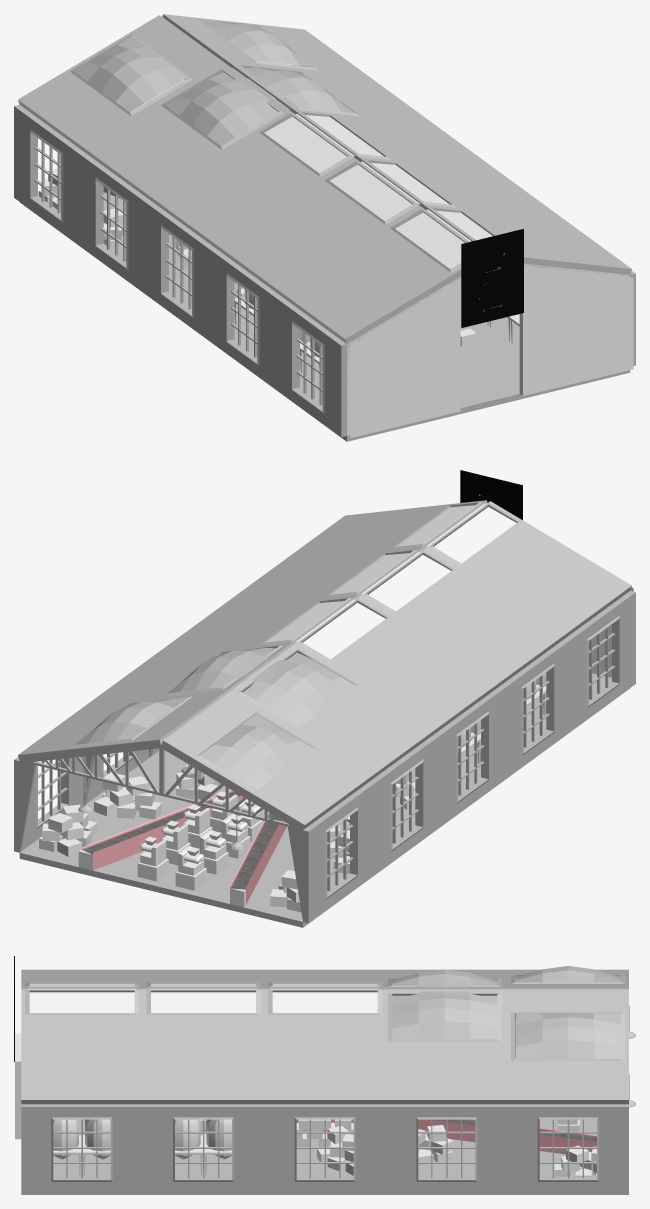
The model's file is ENV FINAL SEQUENCE.fbx.
3 views of the same model, one above another, from view 1: azimuth 30°, elevation 25°; view 2: azimuth 150°, elevation 25°; view 3: azimuth 270°, elevation 25° (orthographic). The views are drawn at different scales.
Visible parts, largest first — view 1: Factory_Module, Factory_Misc, Facotry_Back_Wall, Factory_Garage, SILOS; view 2: Factory_Module, Factory_Misc, DOUGH_MACH4, BOX_GROUP_MESSY7, BOX_GROUP_MESSY6, TR2, Factory_Garage, TB2, BOX_GROUP_MESSY5, SILOS; view 3: Factory_Module, Factory_Misc, SILOS, BOX_GROUP_MESSY4, BOX_GROUP_MESSY5, BOX_GROUP_ORG3, TR2, BOX_GROUP_MESSY7, TR1, Facotry_Back_Wall.
Boxes of the visible parts, bbox=[...] form: Factory_Module: bbox=[14, 14, 635, 441]; Factory_Misc: bbox=[34, 19, 630, 431]; Facotry_Back_Wall: bbox=[347, 263, 633, 438]; Factory_Garage: bbox=[461, 229, 523, 327]; SILOS: bbox=[234, 289, 519, 373]; Factory_Module: bbox=[14, 500, 635, 927]; Factory_Misc: bbox=[19, 504, 615, 919]; DOUGH_MACH4: bbox=[137, 791, 263, 890]; BOX_GROUP_MESSY7: bbox=[39, 804, 301, 912]; BOX_GROUP_MESSY6: bbox=[94, 772, 349, 873]; TR2: bbox=[82, 810, 188, 870]; Factory_Garage: bbox=[460, 470, 522, 520]; TB2: bbox=[230, 832, 273, 904]; BOX_GROUP_MESSY5: bbox=[176, 764, 349, 831]; SILOS: bbox=[458, 672, 546, 769]; Factory_Module: bbox=[21, 969, 628, 1194]; Factory_Misc: bbox=[28, 966, 635, 1178]; SILOS: bbox=[53, 1119, 231, 1175]; BOX_GROUP_MESSY4: bbox=[317, 1126, 353, 1175]; BOX_GROUP_MESSY5: bbox=[418, 1125, 453, 1166]; BOX_GROUP_ORG3: bbox=[296, 1119, 353, 1146]; TR2: bbox=[539, 1127, 596, 1154]; BOX_GROUP_MESSY7: bbox=[554, 1145, 596, 1176]; TR1: bbox=[418, 1119, 475, 1142]; Facotry_Back_Wall: bbox=[15, 1033, 21, 1139].
Size of the model in its own units: 15.72 by 8.75 by 30.69.
